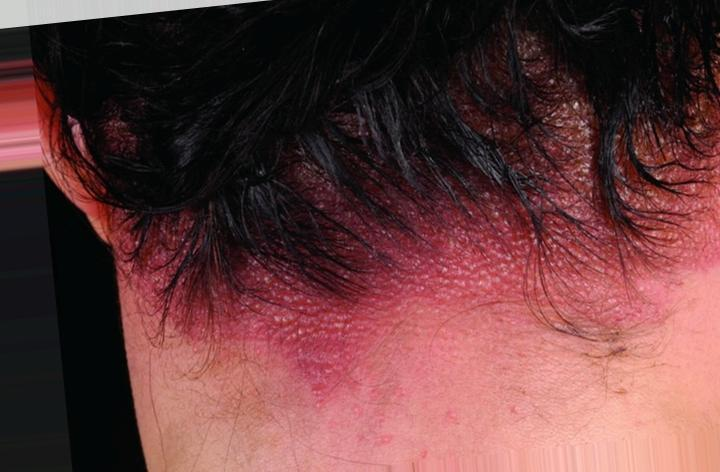Contact Dermatitis: (194, 150, 693, 376)
